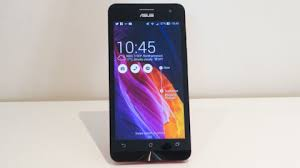asus: (102, 1, 194, 165)
